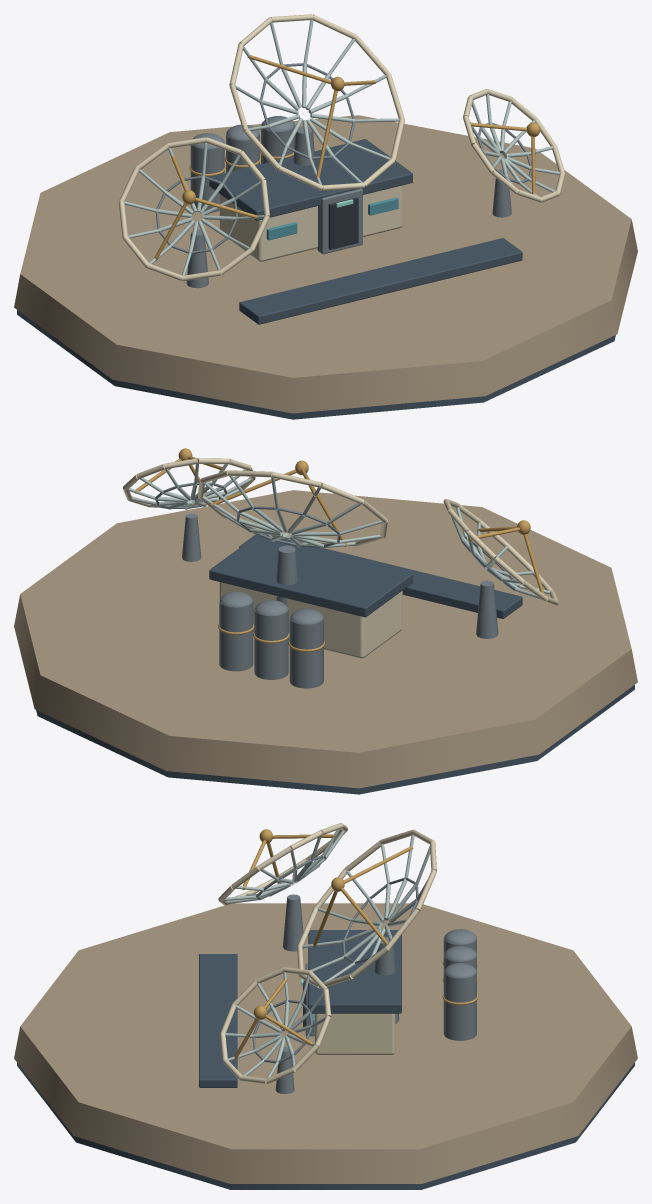
Rendered from meridian.glb.
3 renders of one model, top to bottom at view 1: azimuth 30°, elevation 25°; view 2: azimuth 150°, elevation 25°; view 3: azimuth 270°, elevation 25°, orthographic. The views are drawn at different scales.
Visible parts, largest first — view 1: Terrain cutaway, Service walkway, Roof slab, Habitat pressure shell, Substrate, Storage vessel (×3), Dish pedestal (×3), Sealed door, Airlock surround; view 2: Terrain cutaway, Roof slab, Storage vessel (×3), Habitat pressure shell, Substrate, Service walkway, Dish pedestal (×3); view 3: Terrain cutaway, Roof slab, Service walkway, Substrate, Habitat pressure shell, Storage vessel, Dish pedestal (×3).
Part boxes in pixels (bbox=[...]): Terrain cutaway: bbox=[14, 115, 637, 413]; Service walkway: bbox=[239, 238, 522, 324]; Roof slab: bbox=[209, 139, 412, 220]; Habitat pressure shell: bbox=[219, 185, 402, 261]; Substrate: bbox=[17, 310, 615, 419]; Storage vessel (×3): bbox=[190, 121, 295, 212]; Dish pedestal (×3): bbox=[186, 126, 511, 288]; Sealed door: bbox=[328, 197, 358, 249]; Airlock surround: bbox=[317, 188, 362, 254]; Terrain cutaway: bbox=[14, 490, 637, 788]; Roof slab: bbox=[209, 535, 412, 617]; Storage vessel (×3): bbox=[219, 598, 323, 688]; Habitat pressure shell: bbox=[219, 582, 402, 658]; Substrate: bbox=[36, 685, 634, 794]; Service walkway: bbox=[239, 534, 522, 618]; Dish pedestal (×3): bbox=[182, 513, 498, 638]; Terrain cutaway: bbox=[14, 903, 637, 1183]; Roof slab: bbox=[308, 930, 401, 1013]; Service walkway: bbox=[199, 954, 237, 1087]; Substrate: bbox=[17, 1063, 634, 1189]; Habitat pressure shell: bbox=[314, 1013, 395, 1054]; Storage vessel: bbox=[443, 969, 476, 1040]; Dish pedestal (×3): bbox=[275, 894, 399, 1094].
Bounding box in the file's own units: 5.52 × 2.31 × 5.8.
